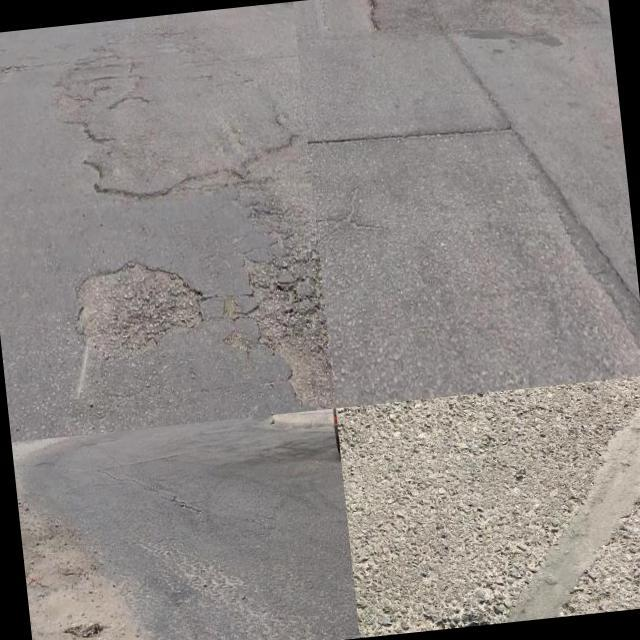Pothole: (72, 255, 206, 362), (255, 312, 335, 411), (318, 0, 380, 35)
